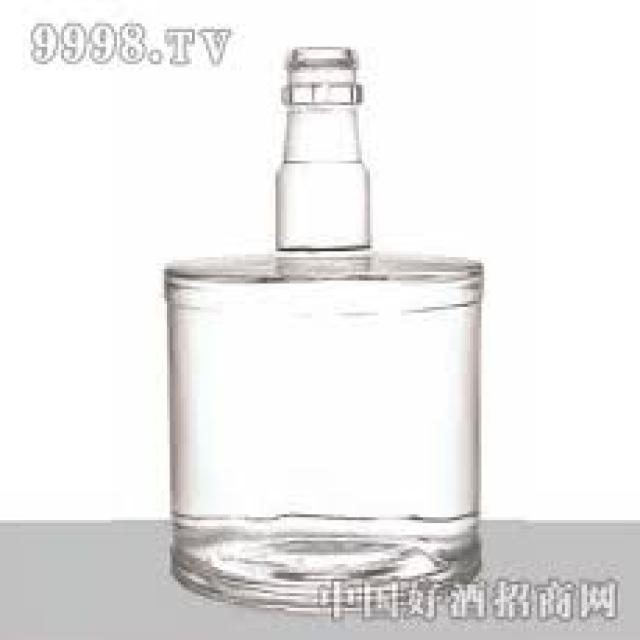glass: (162, 41, 482, 608)
